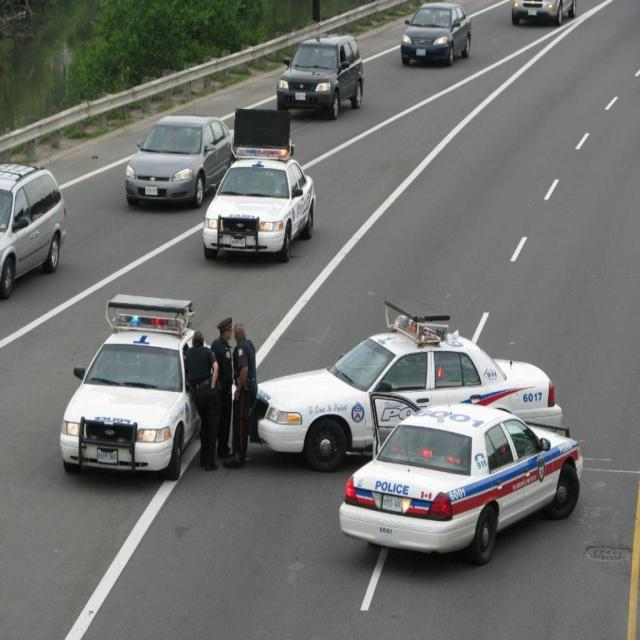car: (337, 403, 582, 567), (202, 139, 315, 265), (274, 33, 363, 121), (401, 2, 470, 65)
